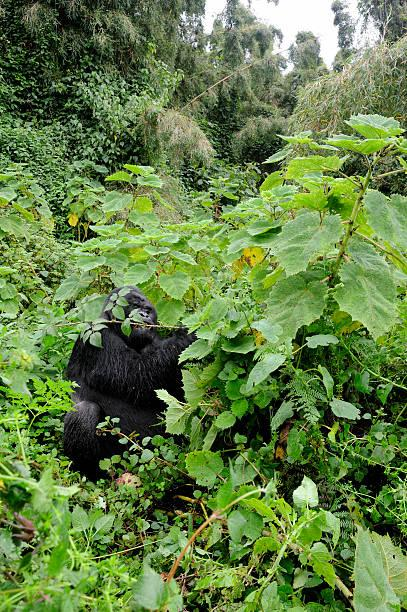goriile_montagne: (63, 284, 195, 459)
